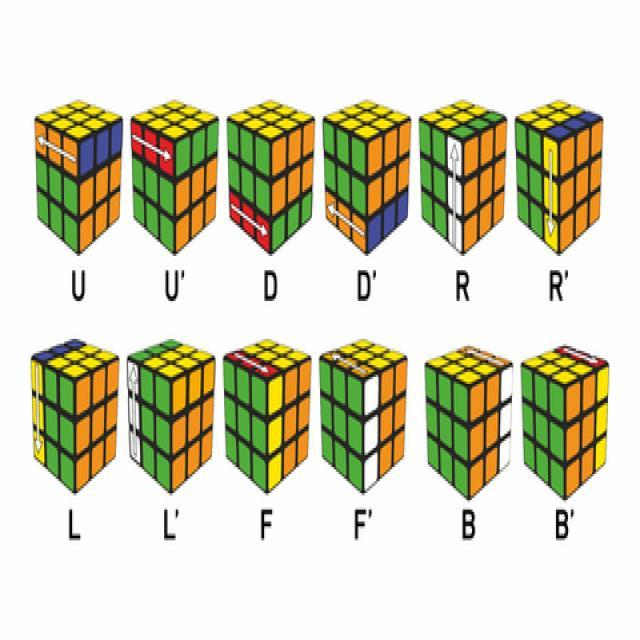Rub: (512, 90, 614, 256), (320, 92, 415, 256), (218, 333, 314, 494), (518, 338, 612, 501), (124, 336, 219, 496), (125, 94, 218, 257), (420, 343, 514, 504), (224, 97, 318, 257), (417, 97, 511, 257), (27, 334, 121, 494), (316, 334, 409, 494), (30, 95, 121, 252)
